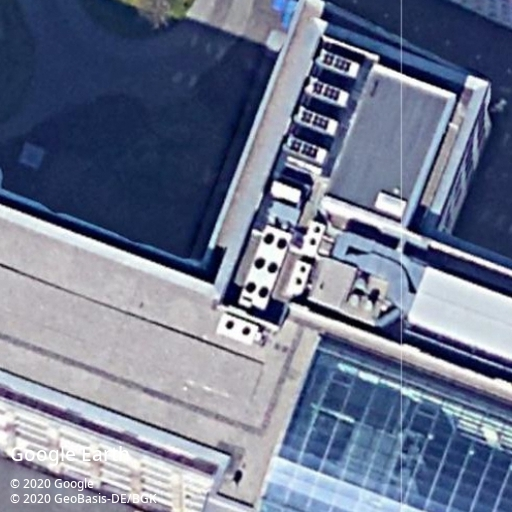Chiller: (237, 225, 292, 311), (304, 75, 350, 109), (293, 104, 339, 138), (282, 131, 328, 165), (216, 312, 261, 345), (315, 48, 361, 77), (289, 258, 312, 296), (302, 219, 326, 254)
